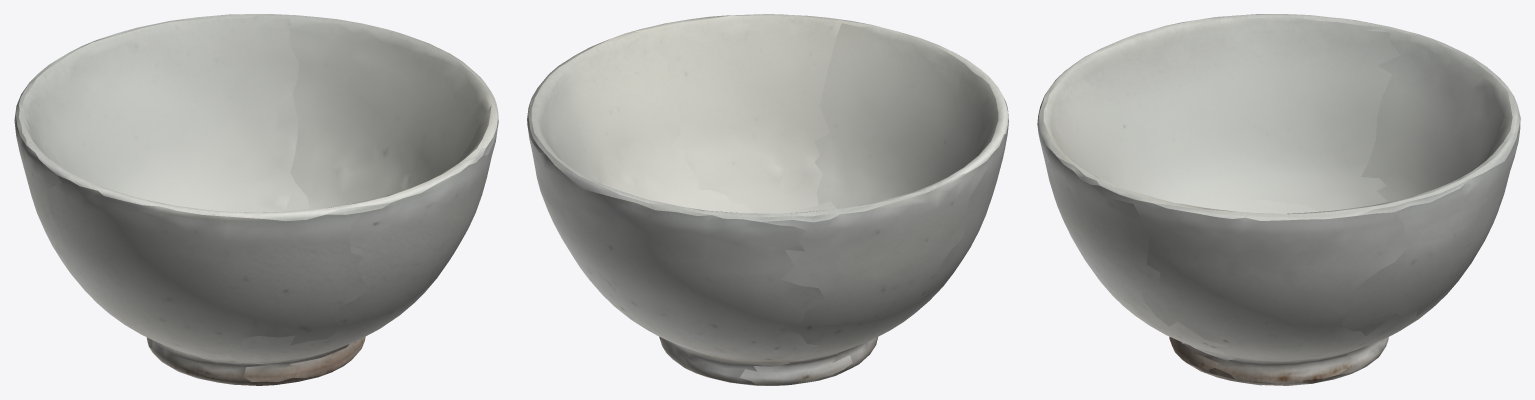
3 renders of one model, left to right at view 1: azimuth 30°, elevation 25°; view 2: azimuth 150°, elevation 25°; view 3: azimuth 270°, elevation 25°, orthographic.
Parts seen in each view (by area): view 1: world; view 2: world; view 3: world.
Boxes of the visible parts, box(x1,y1,x2,y2) form: world: box(14, 14, 498, 385); world: box(527, 14, 1008, 385); world: box(1037, 14, 1520, 385).
Size of the model in its own units: 0.15 by 0.0793 by 0.1499.
Materials: 1 (1 with a texture image).
